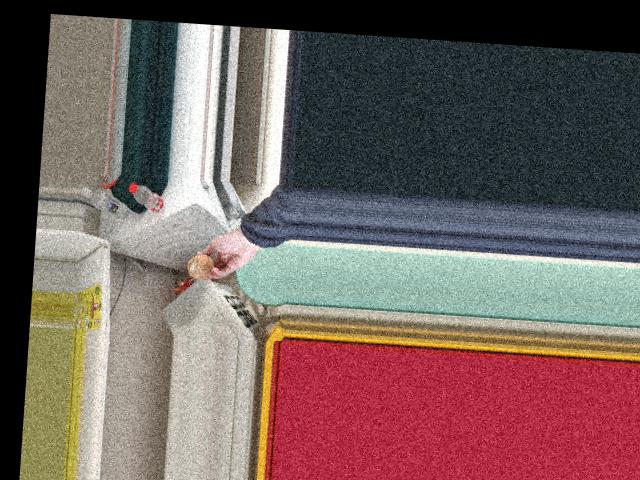sweet_potato: (187, 253, 217, 277)
